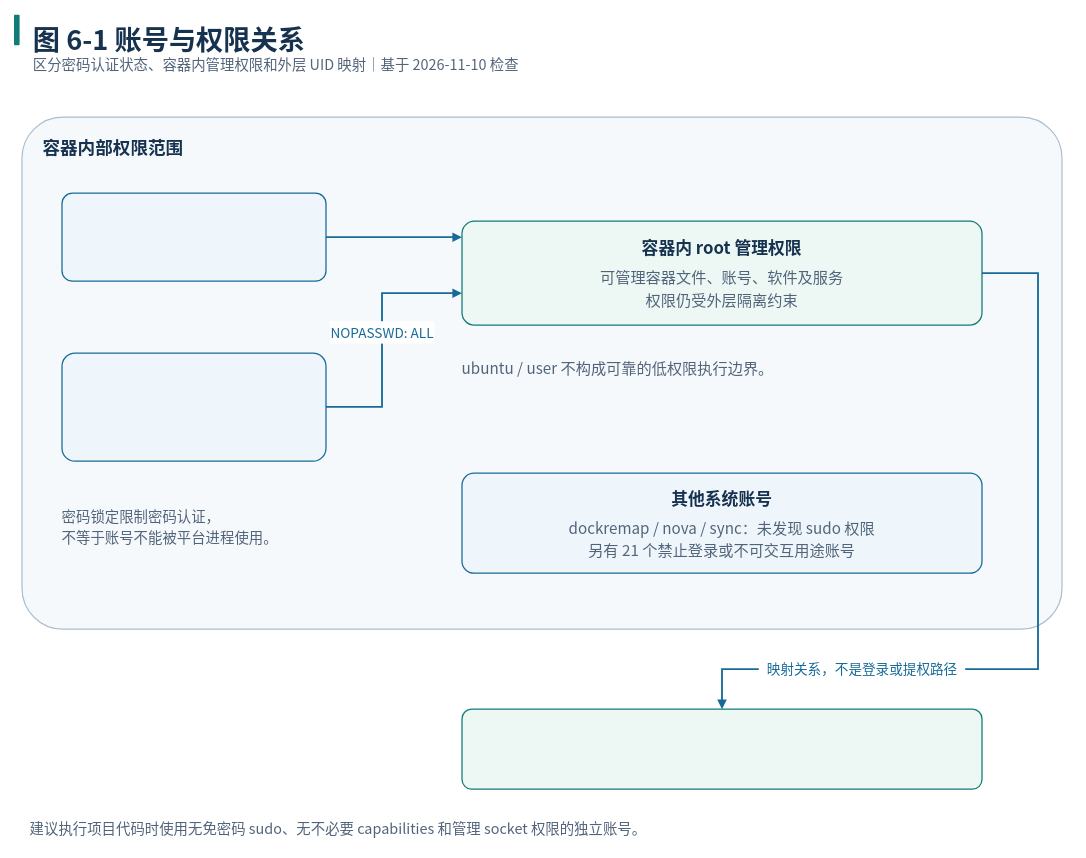
This 1086x858 diagram has some shape labels left out. The shapes that lost their labels are listed below. From the top down, each one's box as (x1, y1, x2, y2) in pixels, then its label:
(61, 192, 326, 281): root · UID 0 已设置密码 OpenSSH 配置允许密码认证
(61, 352, 326, 461): ubuntu / user UID 1000 / 1001 密码锁定；未发现授权公钥
(461, 708, 982, 789): user namespace 映射 容器 UID 0 → 直接外层 UID 100000 不能由此获得外层 UID 0 的权限
